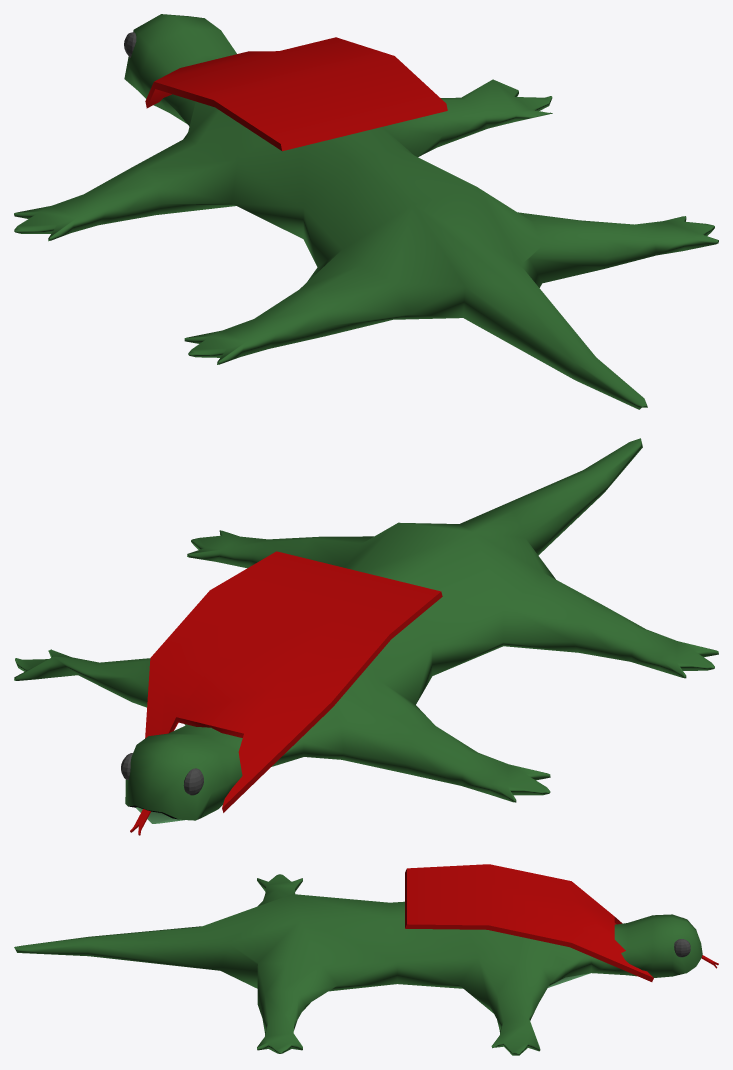
The model's file is super newt.fbx.
The picture shows the model from 3 angles, top to bottom: view 1: azimuth 30°, elevation 25°; view 2: azimuth 150°, elevation 25°; view 3: azimuth 270°, elevation 25°; orthographic projection. The views are drawn at different scales.
Parts seen in each view (by area): view 1: polySurface3; view 2: polySurface3; view 3: polySurface3.
Boxes of the visible parts, <box> form: polySurface3: <box>14,14,718,409</box>; polySurface3: <box>14,438,718,835</box>; polySurface3: <box>14,864,718,1055</box>.
Bounding box in the file's own units: 12.95 × 2.61 × 21.2.
